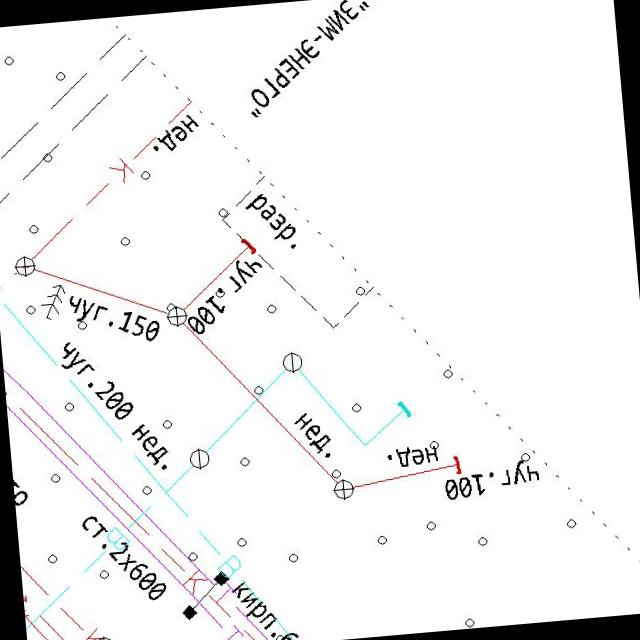tree: (36, 282, 69, 322)
well: (162, 302, 190, 330), (330, 474, 358, 502), (11, 252, 38, 279), (279, 348, 305, 376), (186, 444, 212, 472), (90, 632, 118, 640)
